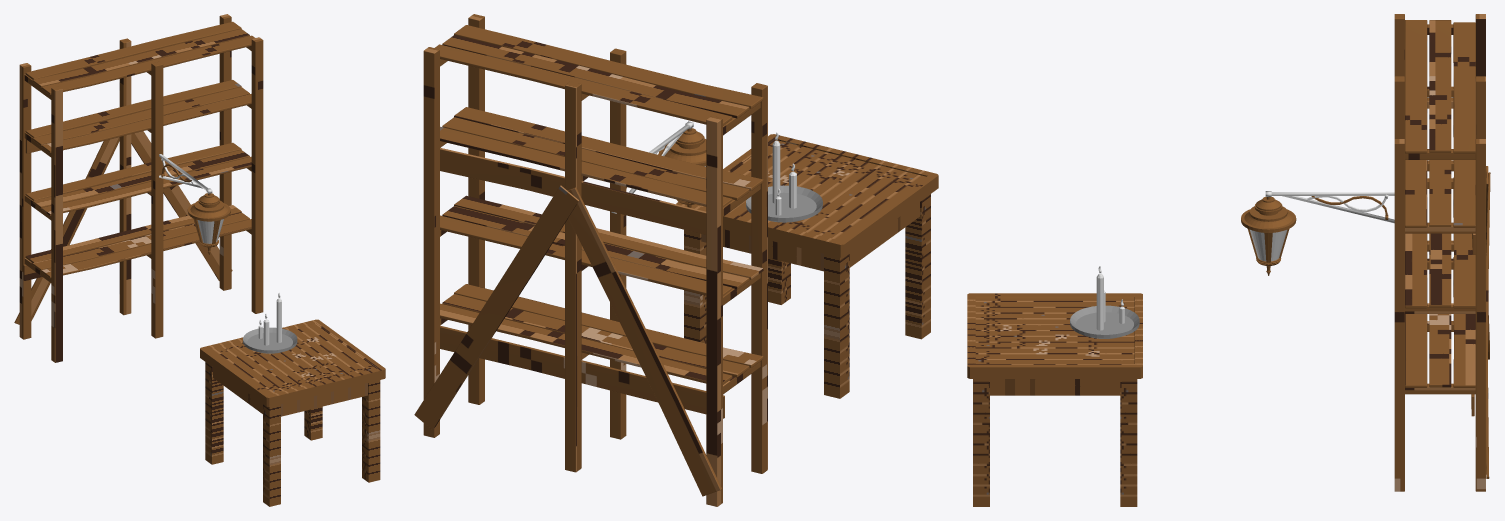
File: Scenery.fbx
3 renders of one model, left to right at view 1: azimuth 30°, elevation 25°; view 2: azimuth 150°, elevation 25°; view 3: azimuth 270°, elevation 25°, orthographic. The views are drawn at different scales.
Visible parts, largest first — view 1: wooden_storage_shelf, Cube.007; view 2: wooden_storage_shelf, Cube.007; view 3: wooden_storage_shelf, Cube.007.
Part boxes in pixels (x1,y1,x2,y2): wooden_storage_shelf: (14, 14, 263, 362); Cube.007: (200, 292, 385, 506); wooden_storage_shelf: (414, 14, 767, 506); Cube.007: (676, 132, 938, 398); wooden_storage_shelf: (1241, 14, 1490, 491); Cube.007: (967, 266, 1142, 506).
Bounding box in the file's own units: 935 × 1266 × 1526.
